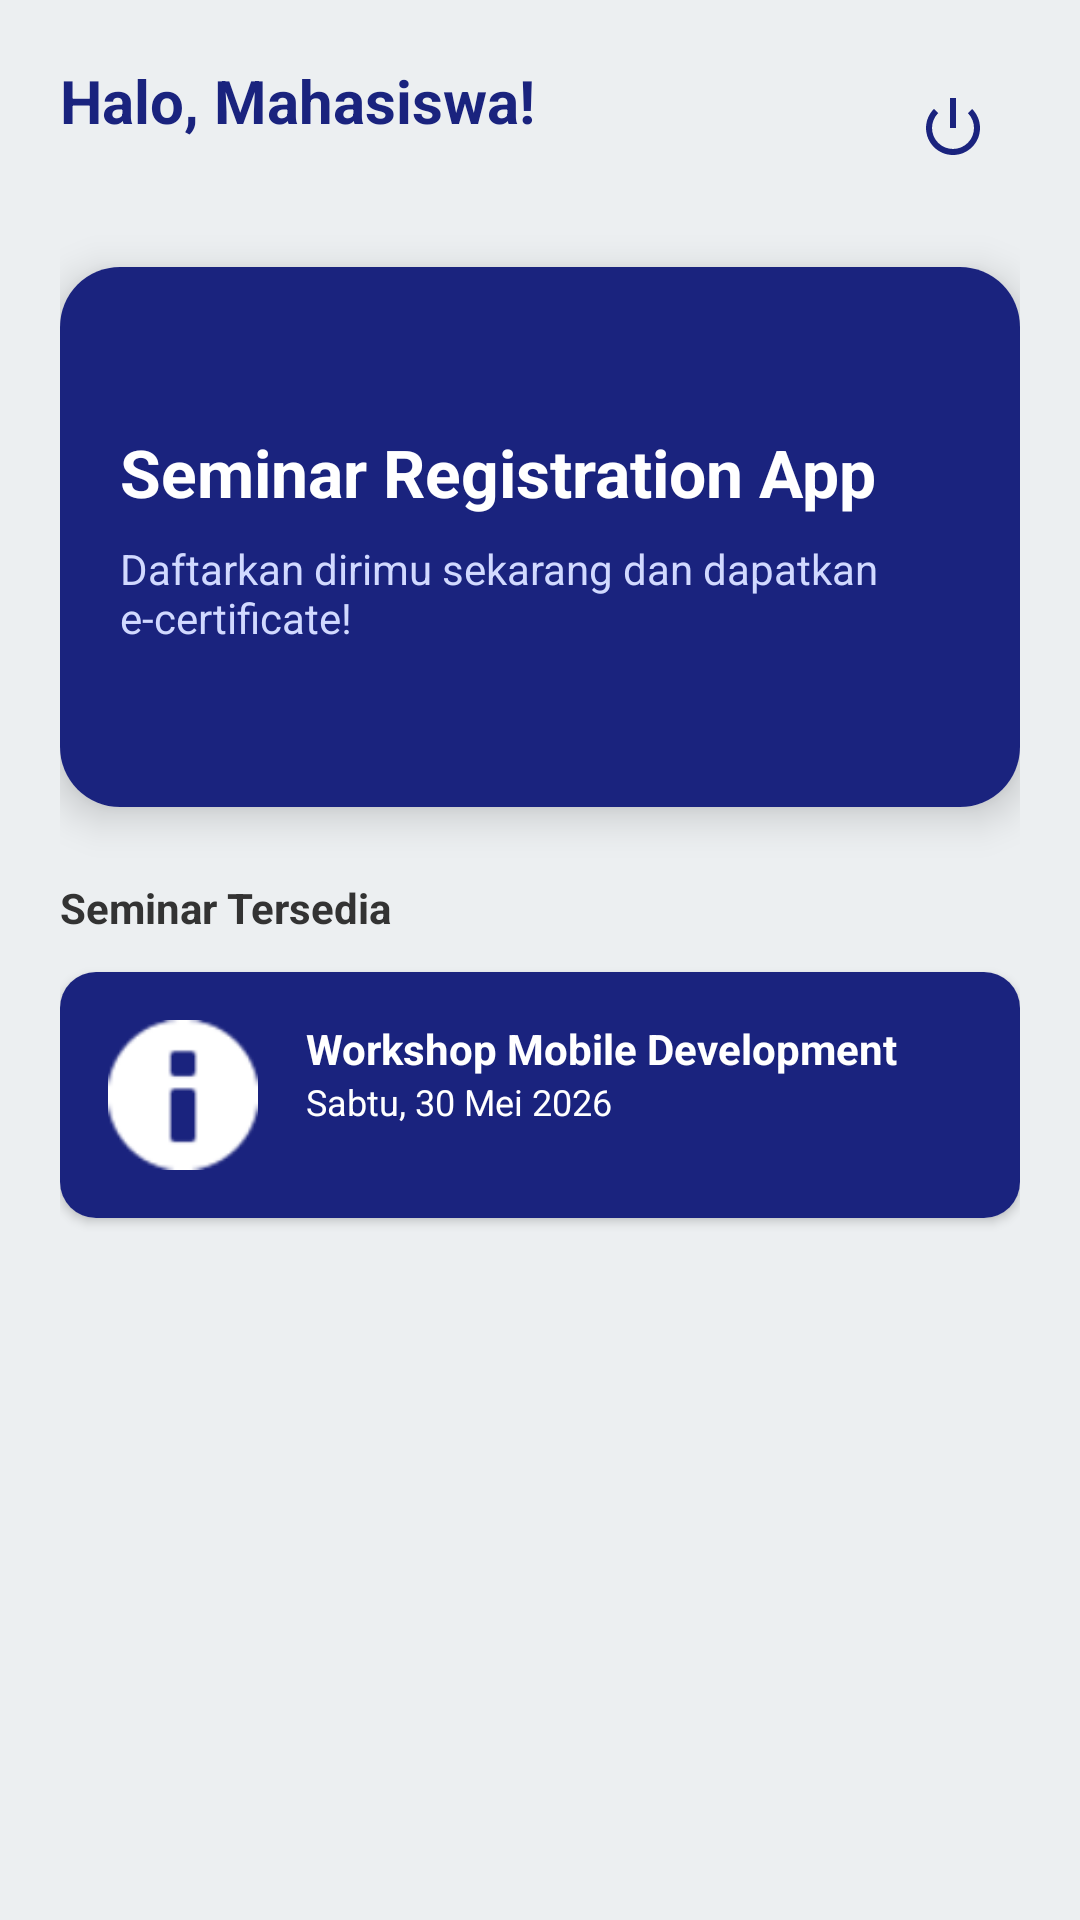

Named icons in this screenshot (1080 x 1920) and their centers, (x=x, y=y):
info: (x=183, y=1095)
